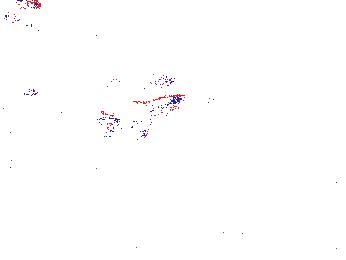X-ray fish: (29, 120, 45, 154)
glassfish: (315, 175, 346, 208)
red belly glassfish: (20, 1, 43, 11)
redtail glassfish: (107, 92, 184, 131), (152, 88, 215, 112), (110, 72, 178, 92)
